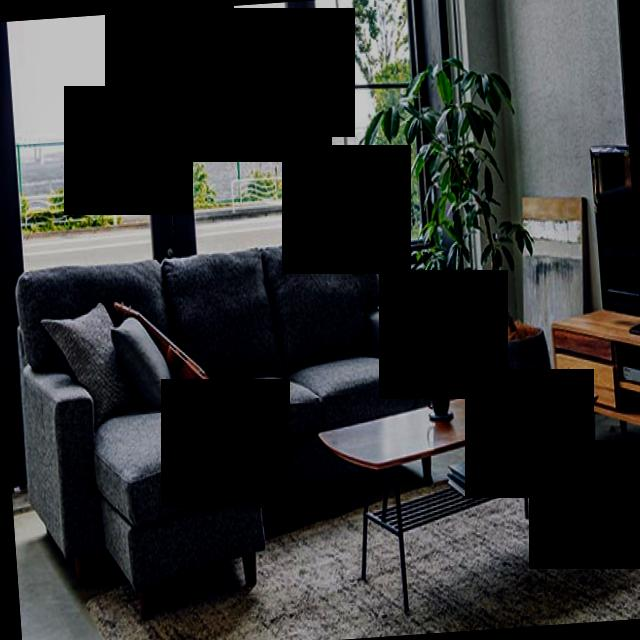natural desk: (310, 368, 610, 620)
natural shelf: (548, 300, 640, 438)
natural sofa: (13, 230, 442, 429)
